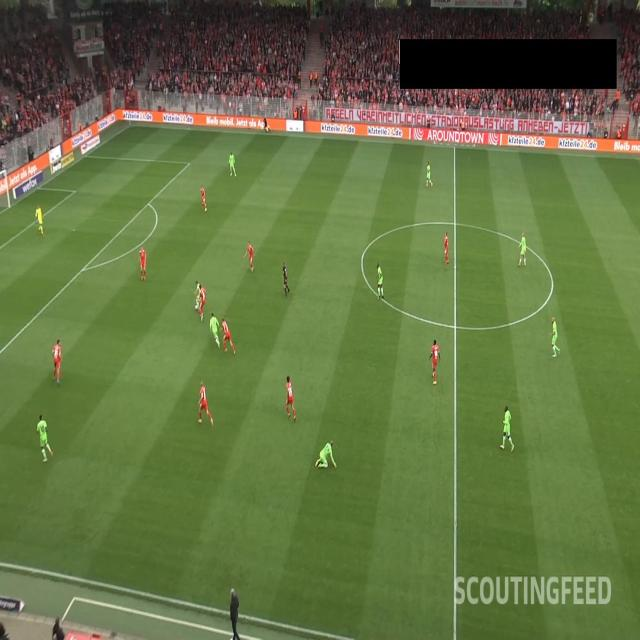ball: (194, 304, 198, 311)
